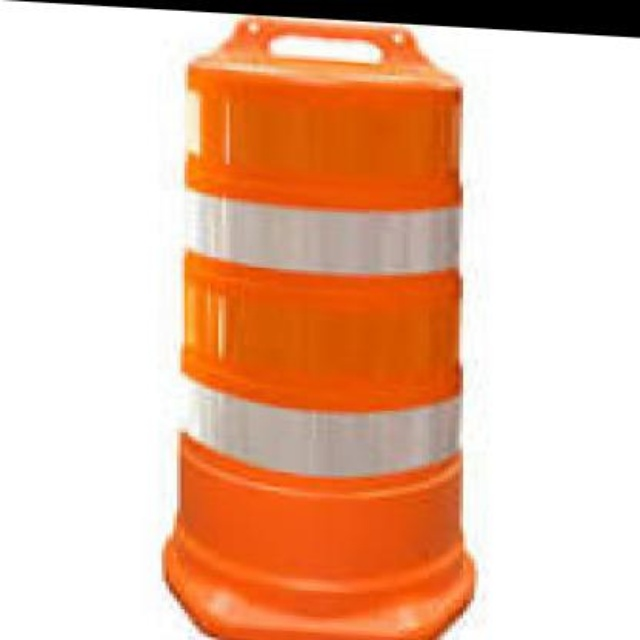obstacle: (121, 24, 482, 640)
